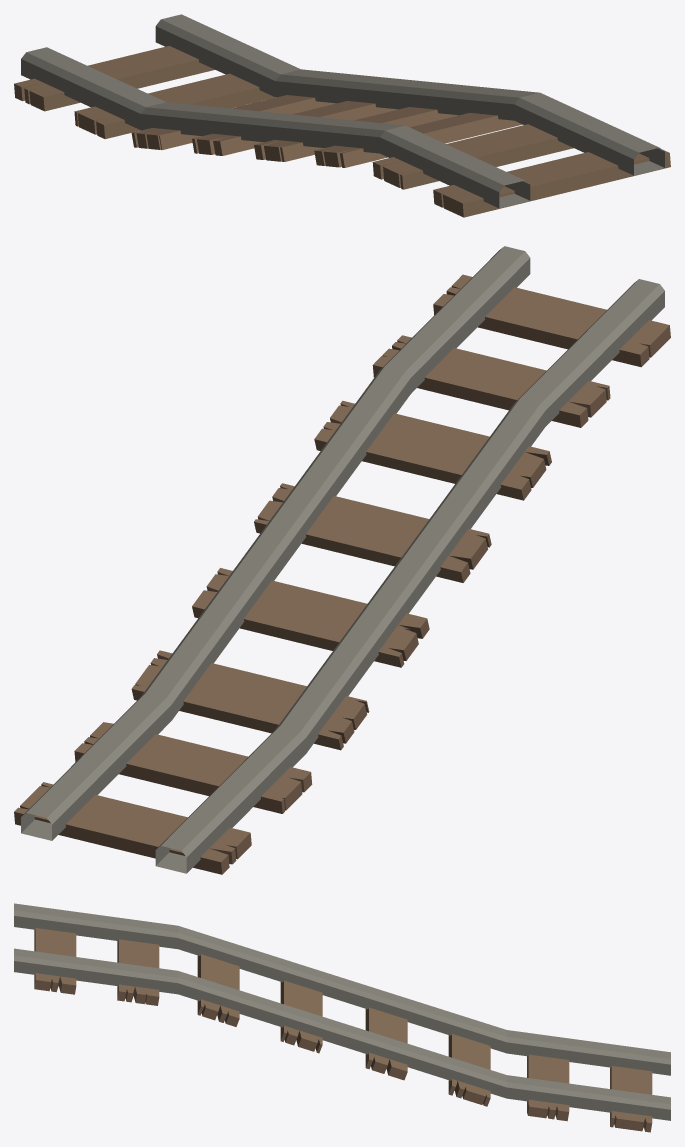
The model's file is Cave_Prop_Railway_Hill_Gentle.obj.
The picture shows the model from 3 angles, top to bottom: view 1: azimuth 30°, elevation 25°; view 2: azimuth 150°, elevation 25°; view 3: azimuth 270°, elevation 25°; orthographic projection. The views are drawn at different scales.
Visible parts, largest first — view 1: object10, object9, object3, object5, object2, object6, object1, object8, object4, object7; view 2: object10, object9, object1, object7, object4, object8, object5, object3, object2, object6; view 3: object10, object9, object7, object8, object4, object1, object5, object3, object6, object2.
Part boxes in pixels (x1=…): object10: x1=155, y1=14, x2=664, y2=175; object9: x1=21, y1=47, x2=530, y2=208; object3: x1=433, y1=149, x2=670, y2=217; object5: x1=14, y1=46, x2=214, y2=111; object2: x1=372, y1=124, x2=573, y2=189; object6: x1=74, y1=73, x2=275, y2=139; object1: x1=314, y1=113, x2=522, y2=167; object8: x1=192, y1=101, x2=398, y2=155; object4: x1=254, y1=107, x2=458, y2=161; object7: x1=131, y1=95, x2=336, y2=149; object10: x1=21, y1=246, x2=530, y2=840; object9: x1=155, y1=279, x2=664, y2=873; object1: x1=314, y1=400, x2=551, y2=500; object7: x1=131, y1=650, x2=369, y2=750; object4: x1=254, y1=483, x2=491, y2=582; object8: x1=192, y1=568, x2=429, y2=667; object5: x1=14, y1=782, x2=251, y2=874; object3: x1=433, y1=274, x2=670, y2=367; object2: x1=372, y1=335, x2=610, y2=427; object6: x1=74, y1=722, x2=312, y2=813; object10: x1=14, y1=948, x2=670, y2=1120; object9: x1=14, y1=903, x2=670, y2=1075; object7: x1=448, y1=1034, x2=490, y2=1106; object8: x1=365, y1=1007, x2=407, y2=1080; object4: x1=280, y1=980, x2=322, y2=1053; object1: x1=197, y1=954, x2=239, y2=1026; object5: x1=610, y1=1066, x2=652, y2=1132; object3: x1=34, y1=928, x2=76, y2=994; object6: x1=527, y1=1054, x2=569, y2=1121; object2: x1=117, y1=939, x2=159, y2=1005.
Size of the model in its own units: 1 by 1.13 by 4.
